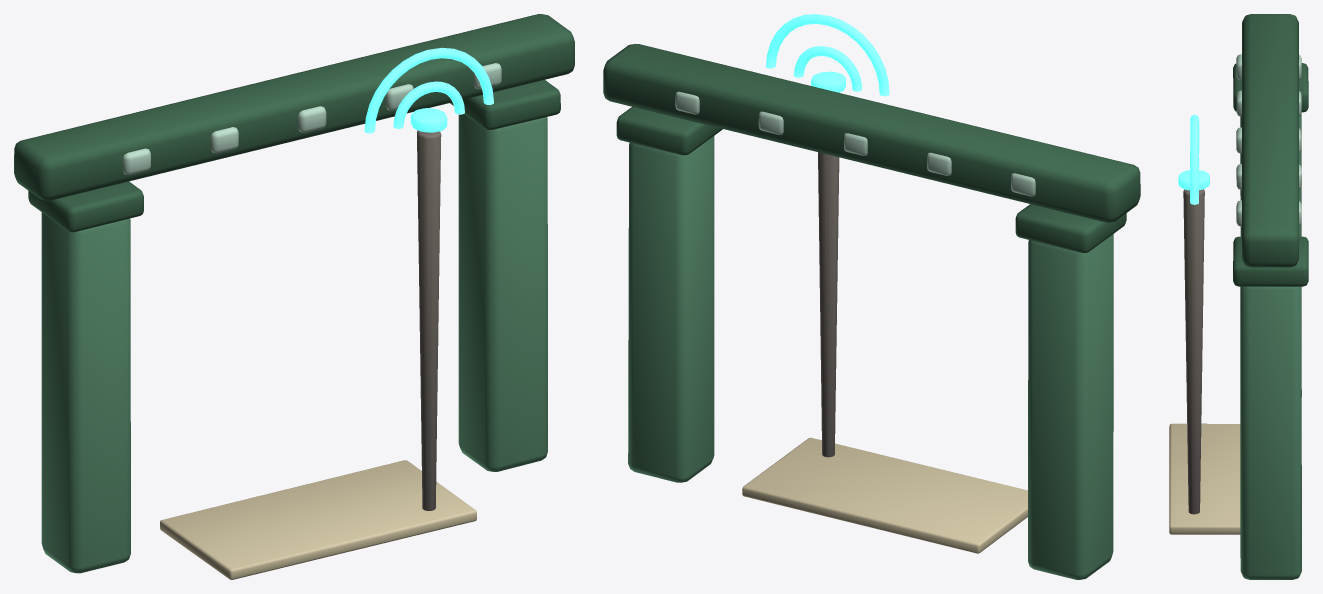
3 views of the same model, side by side, from view 1: azimuth 30°, elevation 25°; view 2: azimuth 150°, elevation 25°; view 3: azimuth 270°, elevation 25° (orthographic). The views are drawn at different scales.
Visible parts, largest first — view 1: gate_8985236e; view 2: gate_8985236e; view 3: gate_8985236e.
Part boxes in pixels (box(x1,y1,x2,y2)): gate_8985236e: box(14, 14, 574, 579); gate_8985236e: box(603, 14, 1140, 579); gate_8985236e: box(1169, 14, 1308, 579).
Size of the model in its own units: 5.2 by 4.35 by 1.37.
